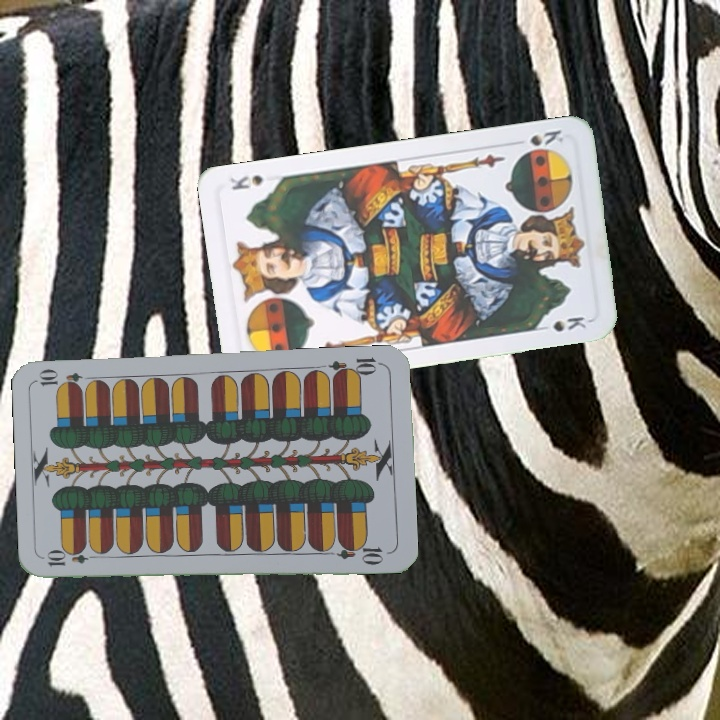E10: (326, 353, 385, 381), (43, 549, 102, 569)
SK: (525, 126, 567, 149)
